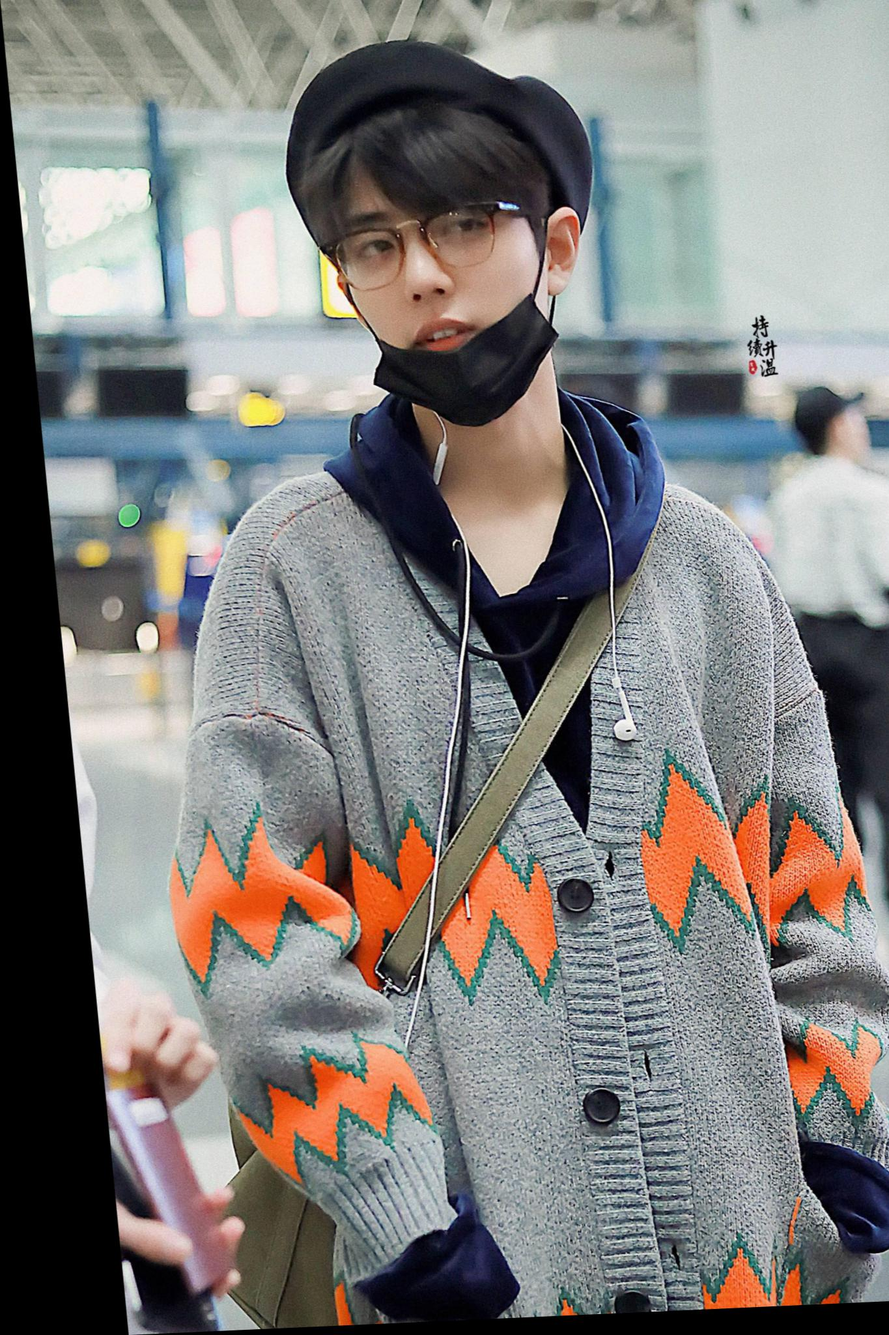WRONG: (328, 184, 556, 426)
